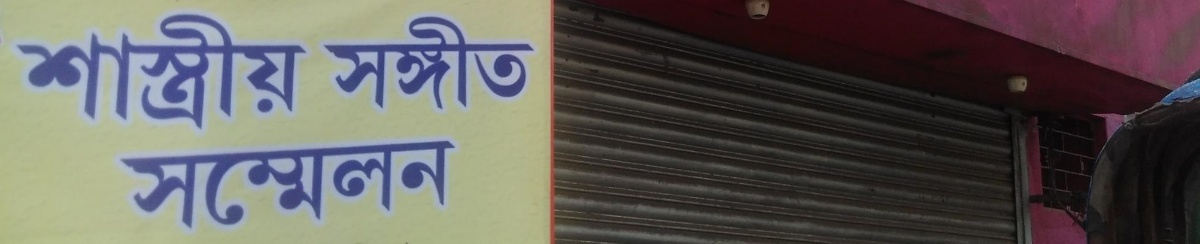text: (17, 14, 32, 134), (33, 14, 48, 134), (49, 14, 64, 134), (65, 14, 80, 134), (81, 14, 96, 134), (97, 14, 112, 134), (113, 14, 128, 134), (129, 14, 144, 134), (145, 14, 160, 134), (161, 14, 176, 134), (177, 14, 192, 134), (193, 14, 208, 134), (209, 14, 224, 134), (225, 14, 240, 134), (241, 14, 256, 134), (257, 14, 272, 134), (273, 14, 288, 134), (289, 14, 304, 134), (321, 10, 336, 119), (337, 10, 352, 119), (353, 10, 368, 119), (369, 10, 384, 119), (385, 10, 400, 119), (401, 10, 416, 119), (417, 10, 432, 119), (433, 10, 448, 119), (449, 10, 464, 119), (465, 10, 480, 119), (481, 10, 496, 119), (497, 10, 512, 119), (513, 10, 528, 119), (113, 135, 128, 236), (129, 135, 144, 236), (145, 135, 160, 236), (161, 135, 176, 236), (177, 135, 192, 236), (193, 135, 208, 236), (209, 135, 224, 236), (225, 135, 240, 236), (241, 135, 256, 236), (257, 135, 272, 236), (273, 135, 288, 236), (289, 135, 304, 236), (305, 135, 320, 236), (321, 135, 336, 236), (337, 135, 352, 236), (353, 135, 368, 236), (369, 135, 384, 236), (385, 135, 400, 236), (401, 135, 416, 236), (417, 135, 432, 236), (433, 135, 448, 236), (449, 135, 464, 236), (529, 10, 538, 119), (106, 135, 112, 236), (465, 135, 469, 236), (305, 14, 308, 134), (318, 10, 320, 119), (15, 14, 16, 134)
